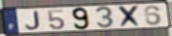3: (95, 5, 116, 30)
5: (47, 9, 67, 31)
6: (144, 5, 164, 26)
9: (71, 7, 92, 30)
J: (24, 10, 42, 31)
X: (117, 4, 143, 29)
